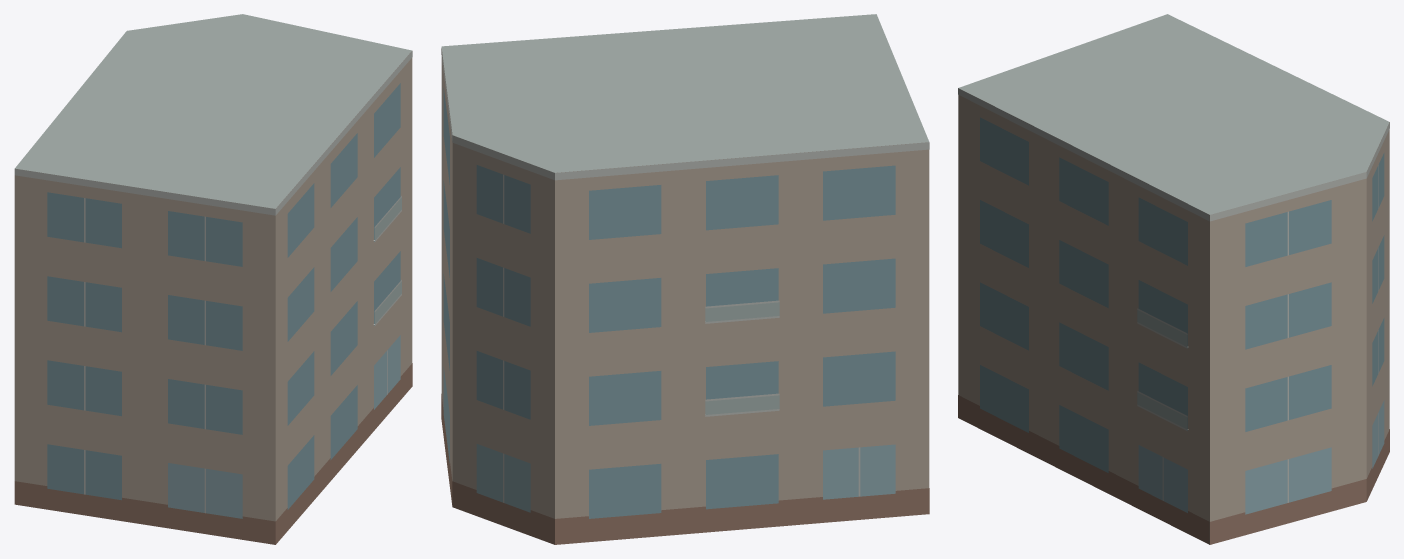
File: survey-upis-32525117.glb
3 views of the same model, side by side, from view 1: azimuth 30°, elevation 25°; view 2: azimuth 150°, elevation 25°; view 3: azimuth 270°, elevation 25° (orthographic). The views are drawn at different scales.
Parts seen in each view (by area): view 1: survey-upis-32525117.tmp; view 2: survey-upis-32525117.tmp; view 3: survey-upis-32525117.tmp.
Boxes of the visible parts, x1,y1,x2,y2 form: survey-upis-32525117.tmp: [14, 14, 412, 544]; survey-upis-32525117.tmp: [441, 14, 929, 544]; survey-upis-32525117.tmp: [958, 14, 1389, 544].
Size of the model in its own units: 15.94 by 12.2 by 14.47.
